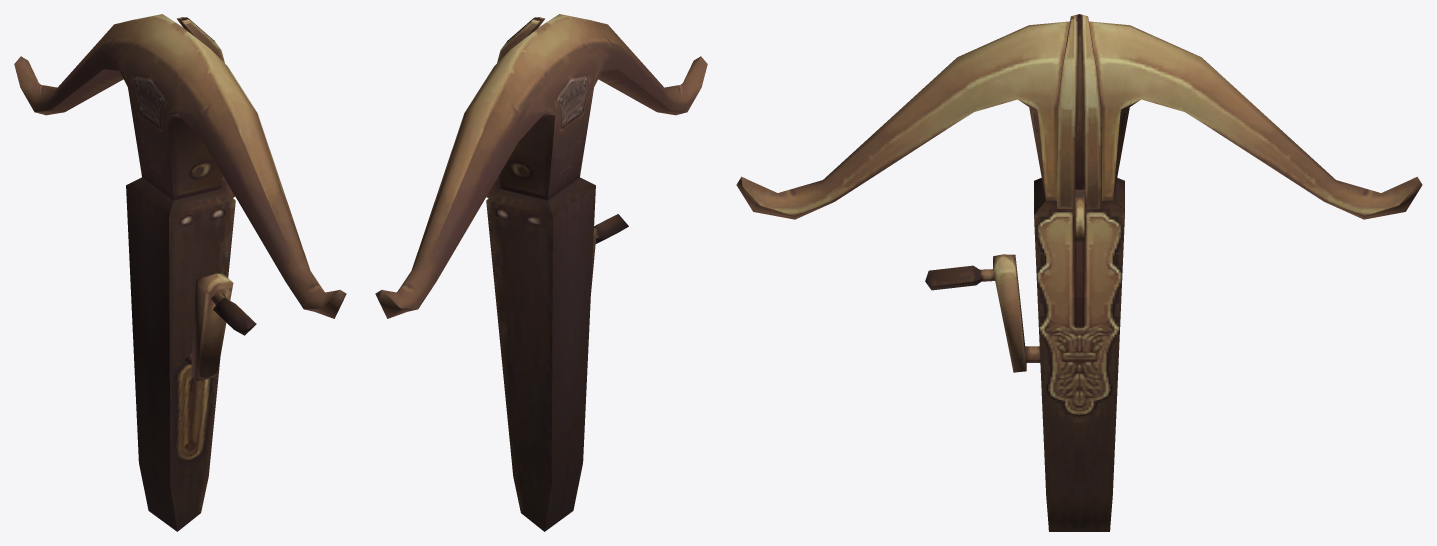
Rendered from crossbow_030lv_01_o01.FBX.
The picture shows the model from 3 angles, left to right: view 1: azimuth 30°, elevation 25°; view 2: azimuth 150°, elevation 25°; view 3: azimuth 270°, elevation 25°; orthographic projection. The views are drawn at different scales.
Parts seen in each view (by area): view 1: crossbow_030lv_01_o01; view 2: crossbow_030lv_01_o01; view 3: crossbow_030lv_01_o01.
Boxes of the visible parts, x1,y1,x2,y2 form: crossbow_030lv_01_o01: (14, 14, 346, 531); crossbow_030lv_01_o01: (375, 14, 707, 531); crossbow_030lv_01_o01: (736, 14, 1422, 531).
Size of the model in its own units: 0.1729 by 0.8863 by 1.05.
